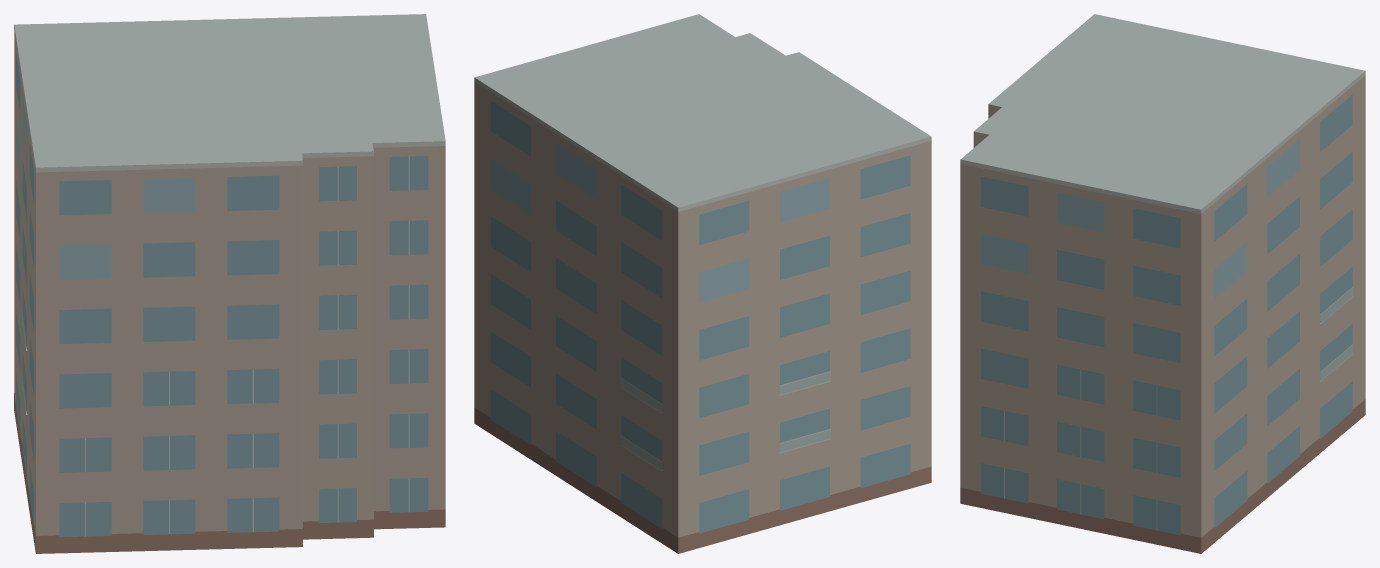
Rendered from survey-upis-32601794.glb.
3 renders of one model, left to right at view 1: azimuth 30°, elevation 25°; view 2: azimuth 150°, elevation 25°; view 3: azimuth 270°, elevation 25°, orthographic. The views are drawn at different scales.
Parts seen in each view (by area): view 1: survey-upis-32601794.tmp; view 2: survey-upis-32601794.tmp; view 3: survey-upis-32601794.tmp.
Boxes of the visible parts, <box> form: survey-upis-32601794.tmp: <box>14,14,445,553</box>; survey-upis-32601794.tmp: <box>474,14,931,553</box>; survey-upis-32601794.tmp: <box>960,14,1365,553</box>.
Bounding box in the file's own units: 23.92 × 19.6 × 20.92.
